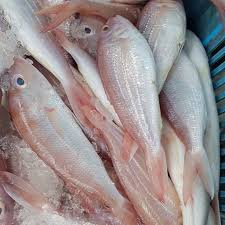Ikan Kerisi: (4, 54, 121, 212), (91, 10, 184, 204)
